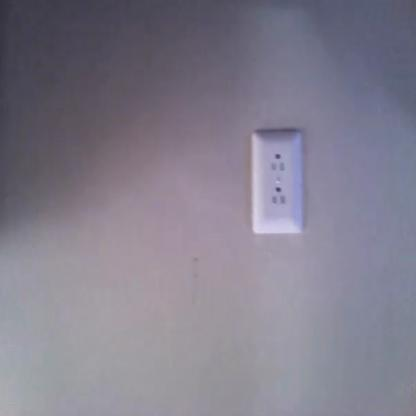OUTLET: (250, 130, 304, 235)
